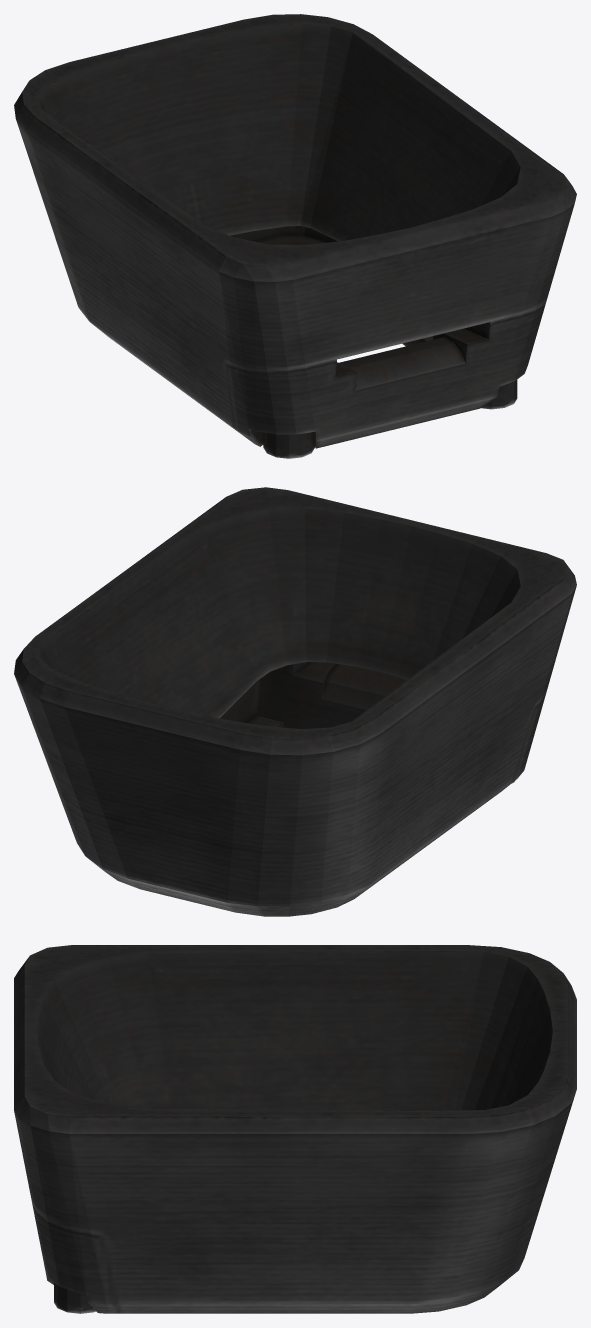
3 views of the same model, one above another, from view 1: azimuth 30°, elevation 25°; view 2: azimuth 150°, elevation 25°; view 3: azimuth 270°, elevation 25° (orthographic). The views are drawn at different scales.
Visible parts, largest first — view 1: TW_60338ff388382f4fab3fd2c8_PZ_Import; view 2: TW_60338ff388382f4fab3fd2c8_PZ_Import; view 3: TW_60338ff388382f4fab3fd2c8_PZ_Import.
Part boxes in pixels (<box>): TW_60338ff388382f4fab3fd2c8_PZ_Import: <box>14,14,576,458</box>; TW_60338ff388382f4fab3fd2c8_PZ_Import: <box>14,487,576,916</box>; TW_60338ff388382f4fab3fd2c8_PZ_Import: <box>14,945,576,1313</box>.
Size of the model in its own units: 0.0323 by 0.0428 by 0.0185.
Materials: 1 (1 with a texture image).
